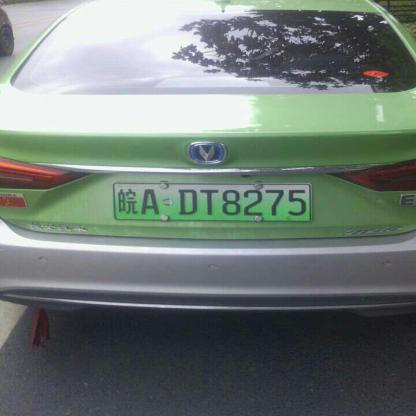lp: (114, 184, 311, 221)
